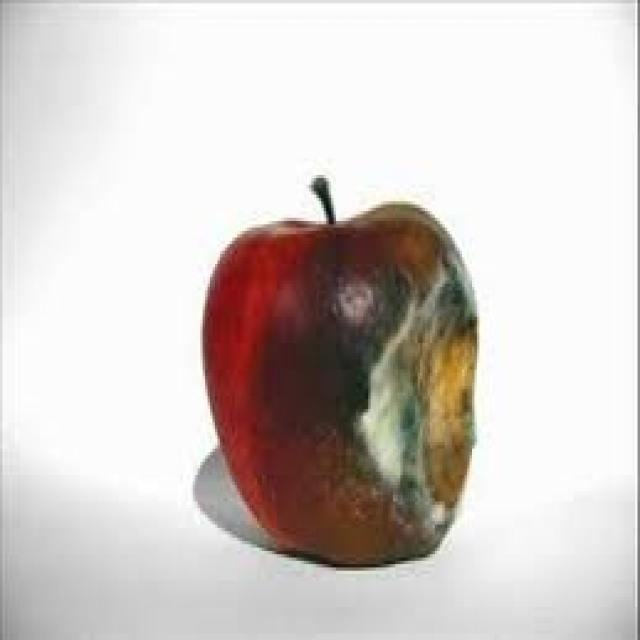Organik: (198, 173, 484, 570)
